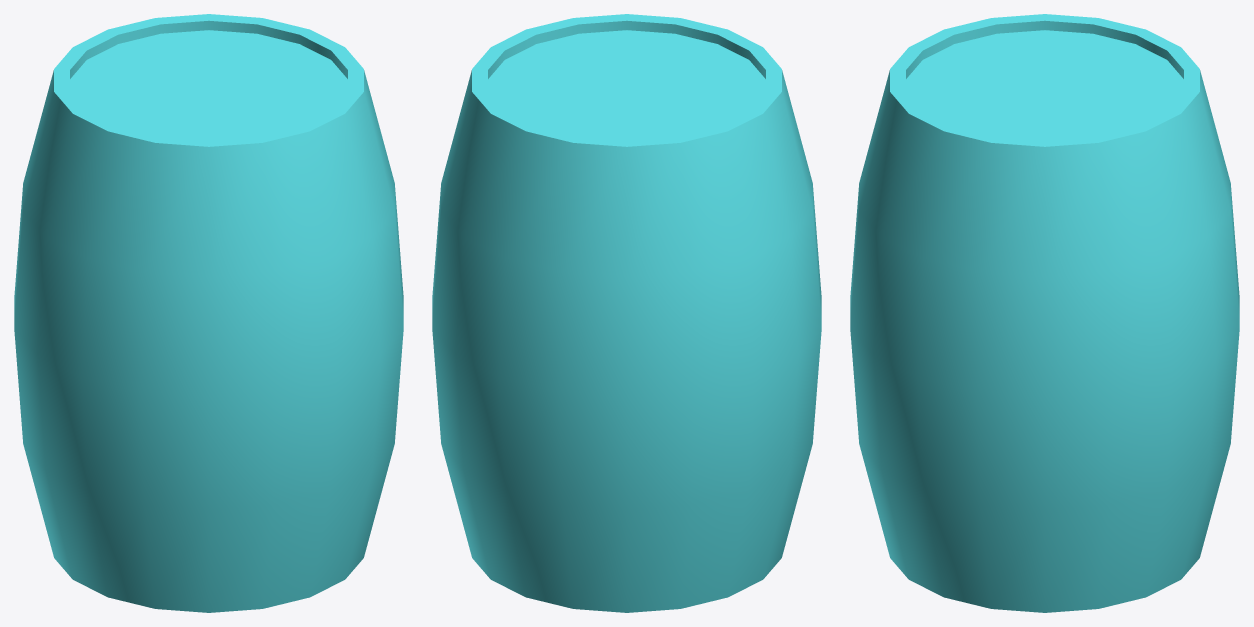
3 views of the same model, side by side, from view 1: azimuth 30°, elevation 25°; view 2: azimuth 150°, elevation 25°; view 3: azimuth 270°, elevation 25° (orthographic).
Visible parts, largest first — view 1: Cylinder001_Material #25_0; view 2: Cylinder001_Material #25_0; view 3: Cylinder001_Material #25_0.
Part boxes in pixels (x1=…): Cylinder001_Material #25_0: x1=14, y1=14, x2=403, y2=612; Cylinder001_Material #25_0: x1=432, y1=14, x2=821, y2=612; Cylinder001_Material #25_0: x1=850, y1=14, x2=1239, y2=612.
Size of the model in its own units: 0.7692 by 1 by 0.7576.
